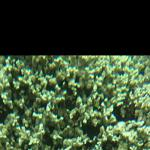alive: (1, 56, 149, 148)
